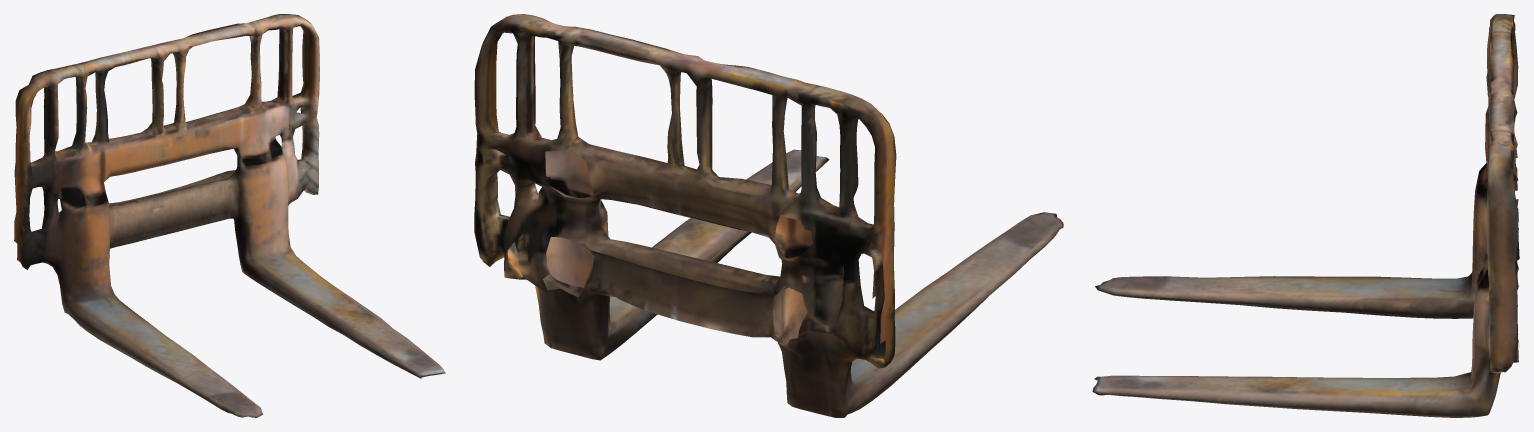
The model's file is forks_01.glb.
3 renders of one model, left to right at view 1: azimuth 30°, elevation 25°; view 2: azimuth 150°, elevation 25°; view 3: azimuth 270°, elevation 25°, orthographic. The views are drawn at different scales.
Visible parts, largest first — view 1: Mesh_0; view 2: Mesh_0; view 3: Mesh_0.
Boxes of the visible parts, left/top/right/bottom form: Mesh_0: left=14, top=14, right=445, bottom=417; Mesh_0: left=474, top=14, right=1063, bottom=417; Mesh_0: left=1092, top=14, right=1519, bottom=417.
Size of the model in its own units: 0.6711 by 0.5267 by 0.7367.
Materials: 1 (1 with a texture image).
